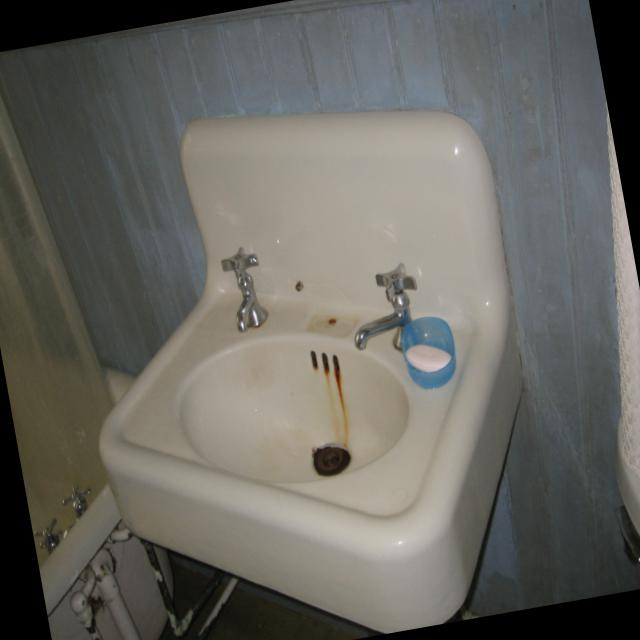soap bottle: (404, 342, 452, 376)
